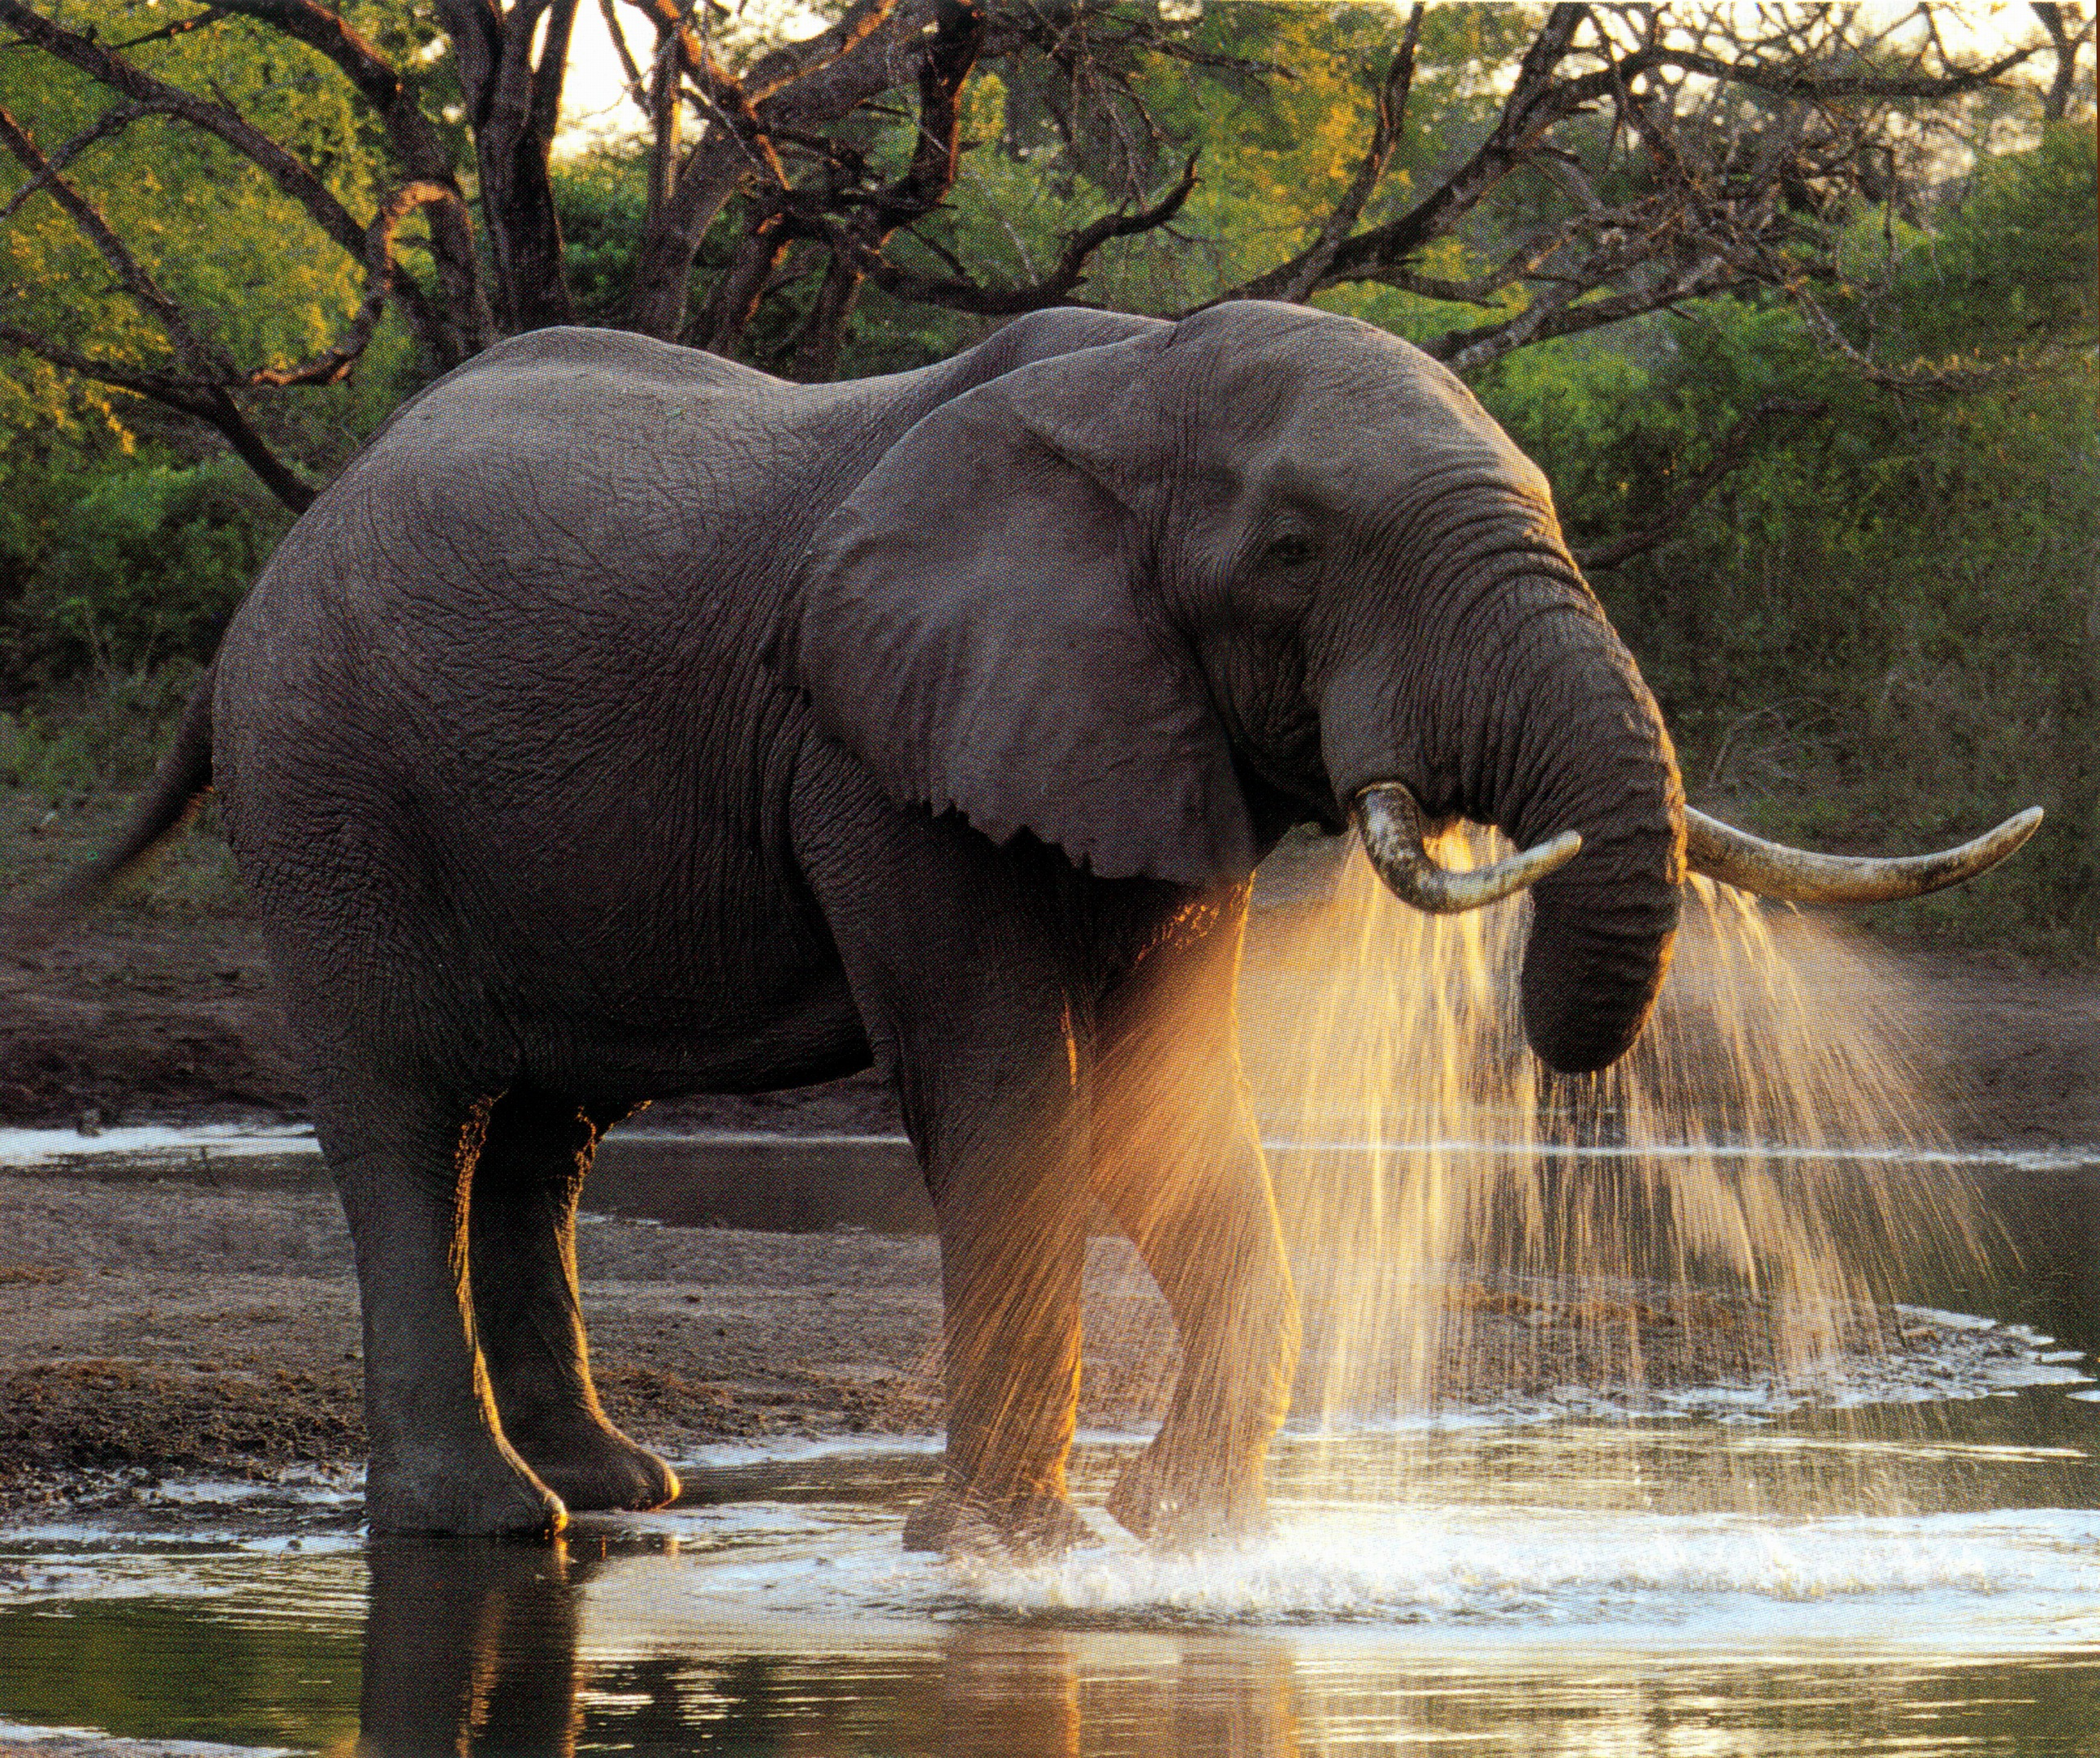elephant: (10, 298, 2037, 1561)
